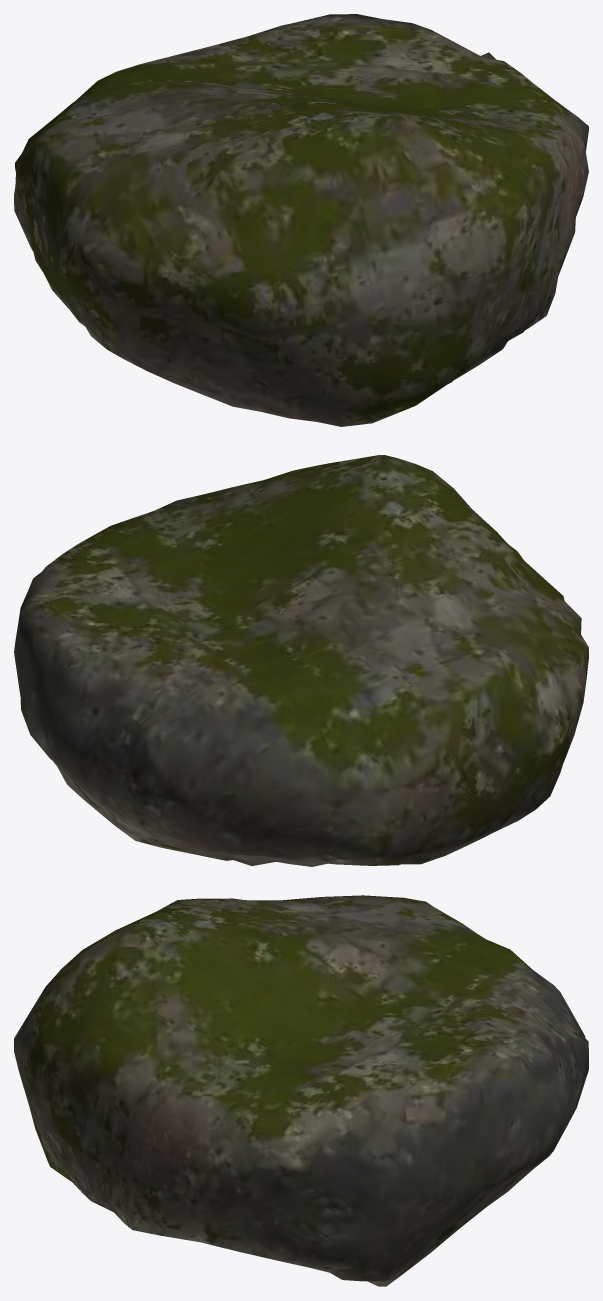
Rendered from rock2.glb.
3 renders of one model, top to bottom at view 1: azimuth 30°, elevation 25°; view 2: azimuth 150°, elevation 25°; view 3: azimuth 270°, elevation 25°, orthographic. The views are drawn at different scales.
Parts seen in each view (by area): view 1: A_Set.001; view 2: A_Set.001; view 3: A_Set.001.
Boxes of the visible parts, bbox=[...] form: A_Set.001: bbox=[14, 14, 588, 426]; A_Set.001: bbox=[14, 455, 588, 866]; A_Set.001: bbox=[14, 895, 588, 1286].
Bounding box in the file's own units: 5.6 × 3.23 × 5.59.
Materials: 1 (1 with a texture image).
